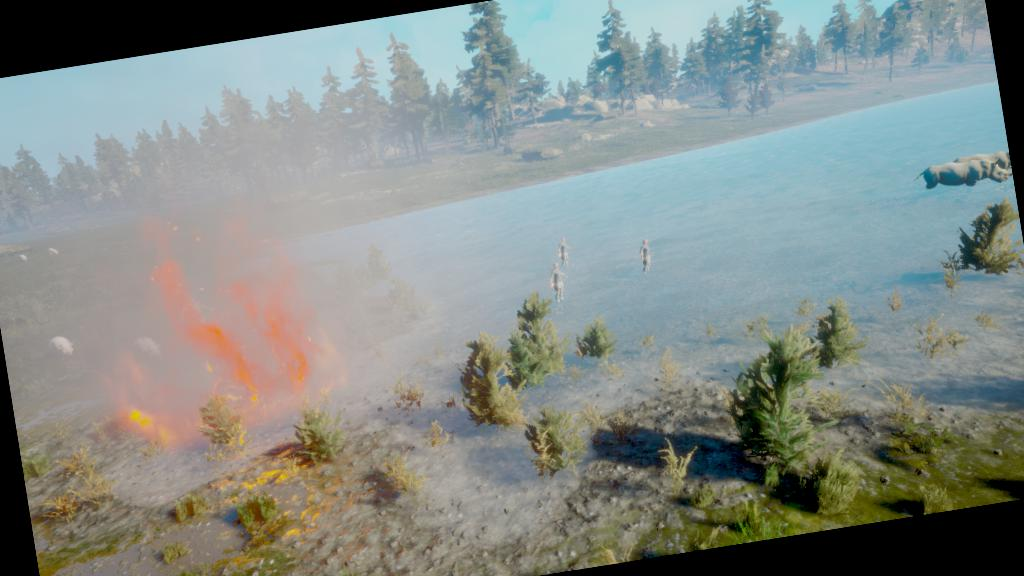Fire: (90, 192, 354, 442)
human: (630, 232, 664, 282), (542, 260, 574, 310), (552, 230, 582, 274)
pig: (116, 320, 176, 372), (38, 326, 90, 370)
rhinoceros: (900, 152, 1012, 196), (934, 144, 1012, 186)
smoke: (58, 140, 419, 456)
